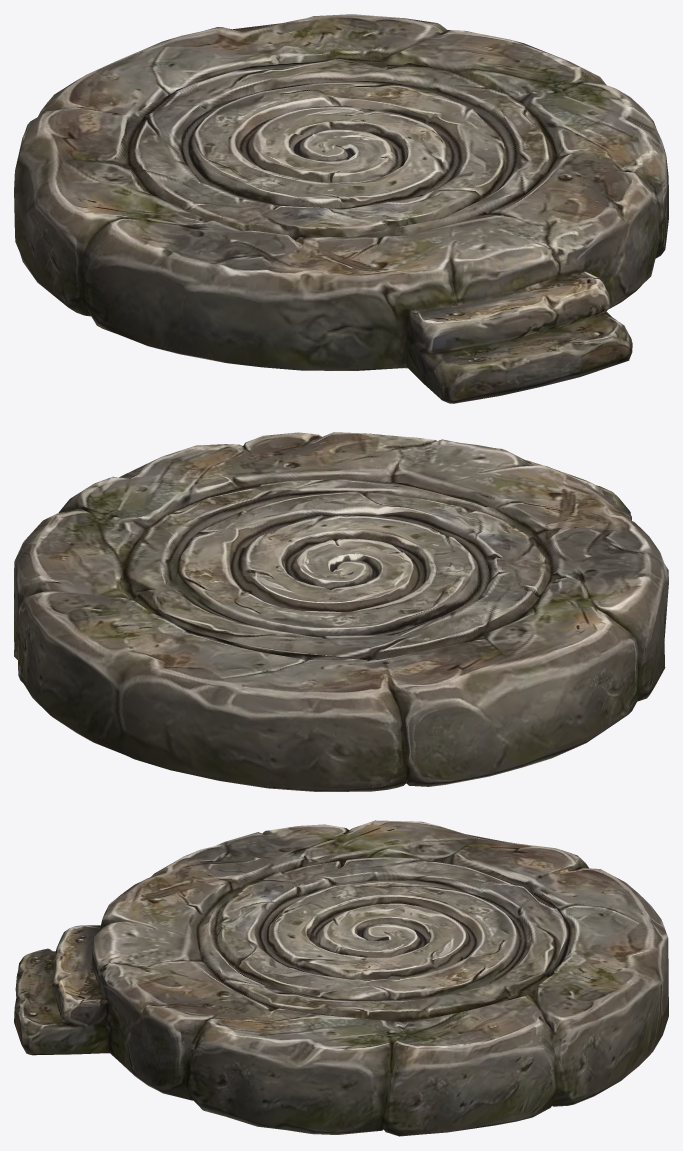
Rendered from perch.glb.
The picture shows the model from 3 angles, top to bottom: view 1: azimuth 30°, elevation 25°; view 2: azimuth 150°, elevation 25°; view 3: azimuth 270°, elevation 25°; orthographic projection. The views are drawn at different scales.
Bounding box in the file's own units: 6.14 × 1 × 6.96.
Materials: 1 (1 with a texture image).
